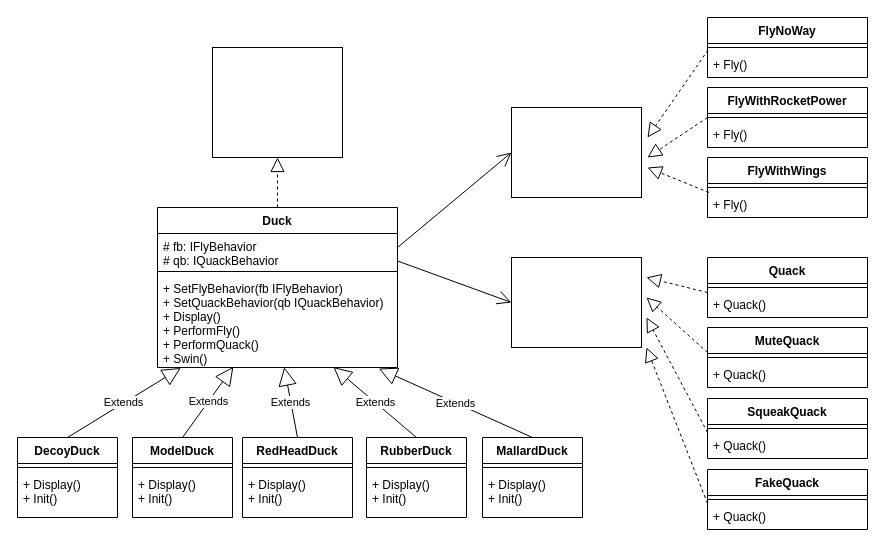
This 885x550 diagram has some shape labels left out. Here are the shapes that lost their labels. From the top down, the centre of each, then its label:
[277,102]: <<Interface>> iDuck + Display() + Swin()
[576,152]: <<Interface>> IFlyBehavior + Fly()
[576,302]: <<Interface>> IQuackBehavior + Quack()
